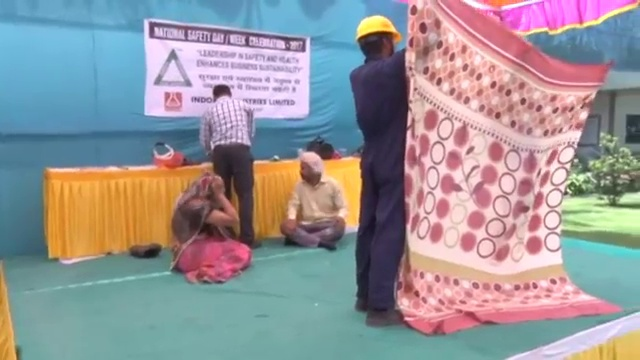helmet: (354, 15, 402, 42)
helmet_off: (296, 144, 320, 183), (192, 170, 223, 196), (209, 82, 236, 106)
helmet_on: (353, 15, 403, 60)
person: (349, 14, 411, 326), (199, 81, 264, 249), (169, 171, 252, 283), (279, 143, 346, 248)
